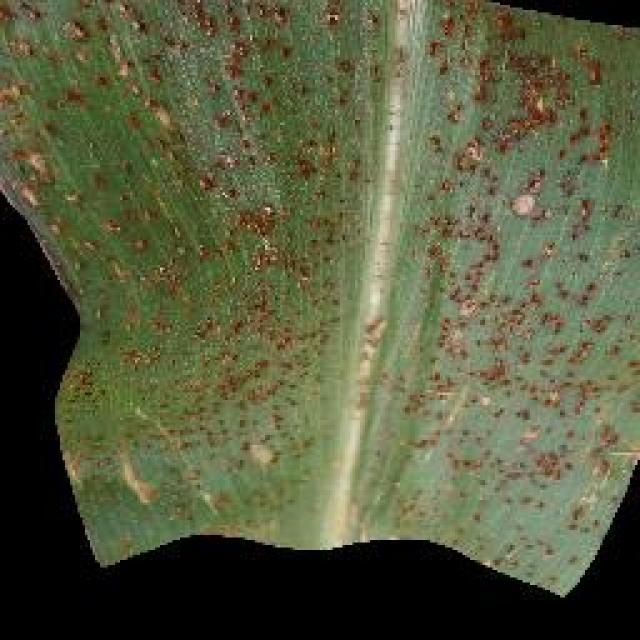Corn Common Rust: (34, 3, 514, 480)
